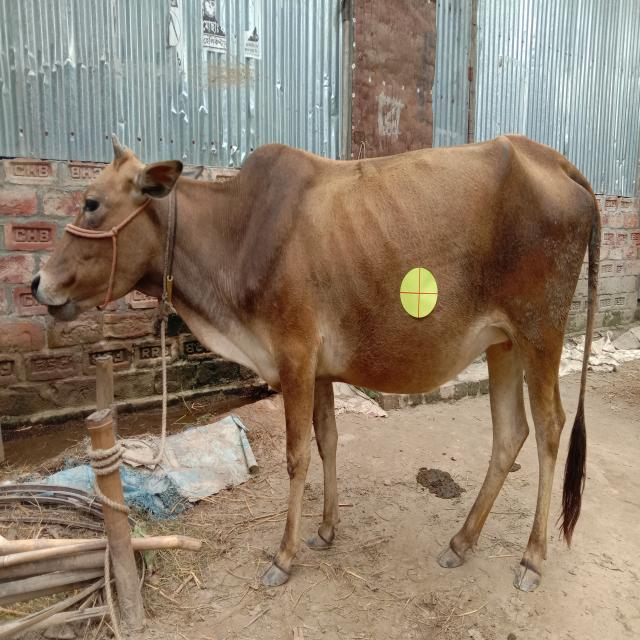badan_sapi: (237, 160, 581, 396)
sapi: (24, 132, 612, 596)
